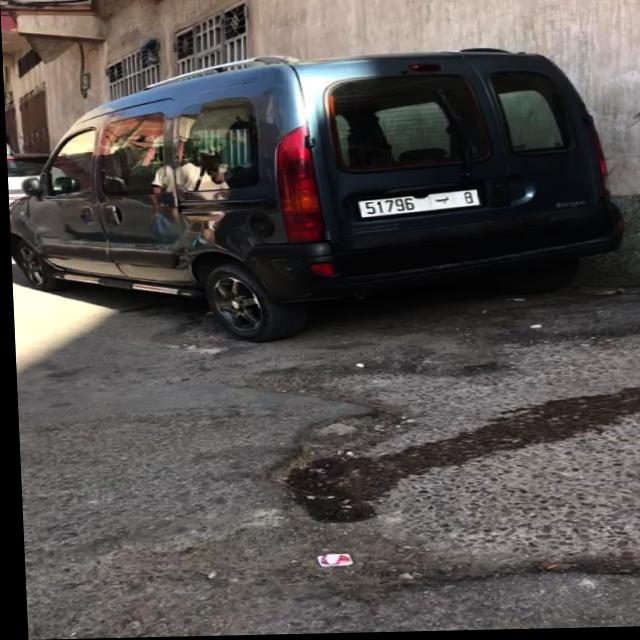License-Plate: (357, 192, 477, 219)
